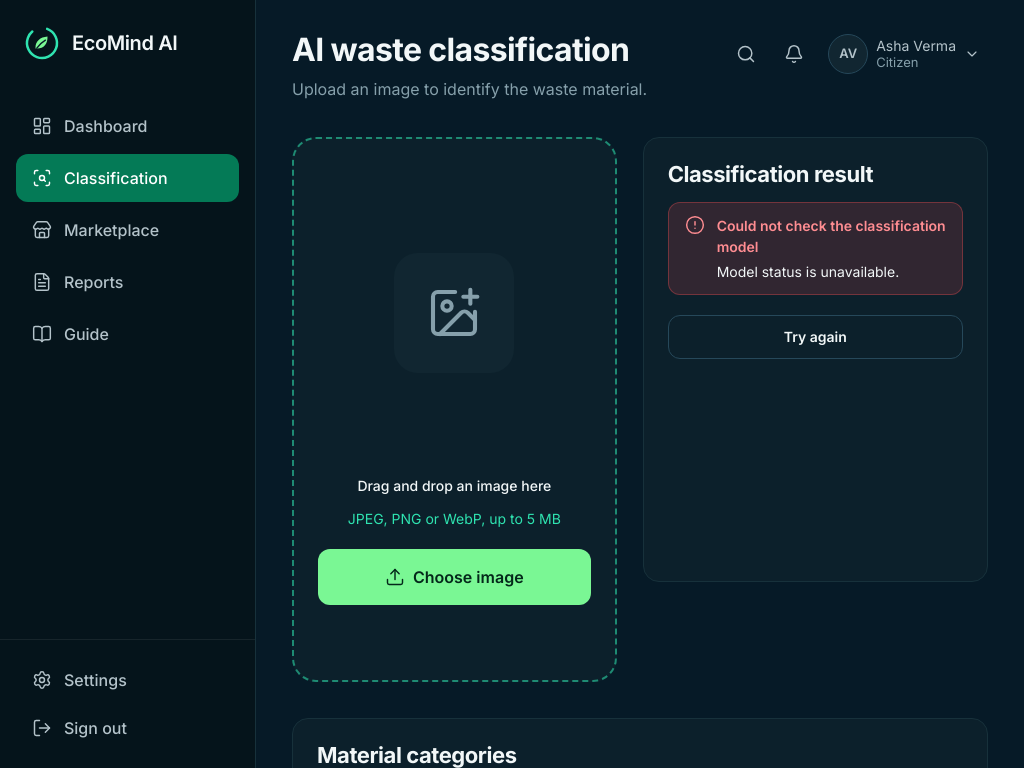
classification › reports a model-status failure and lets the user retry
This screenshot has width=1024, height=768.
Expected: the text "Could not check the classification model" is shown, x1=717 y1=215 x2=946 y2=257
Click the button "Try again": (815, 337) x1=668 y1=315 x2=963 y2=359
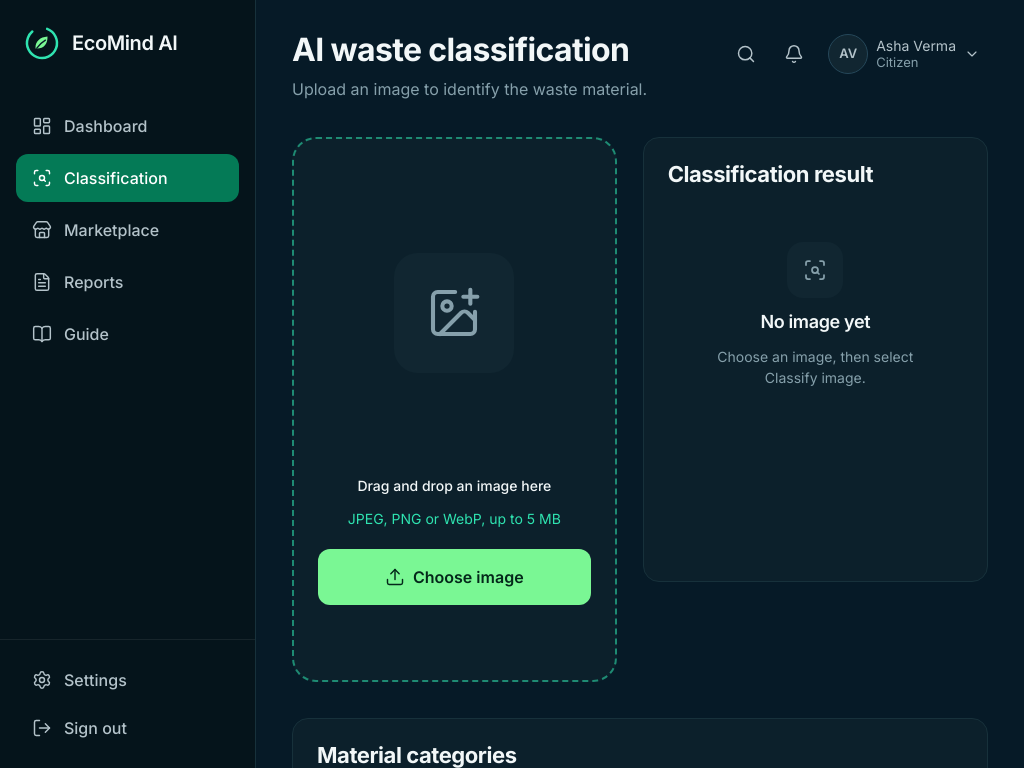
Result: the heading "No image yet" is shown at x1=760 y1=310 x2=870 y2=334
